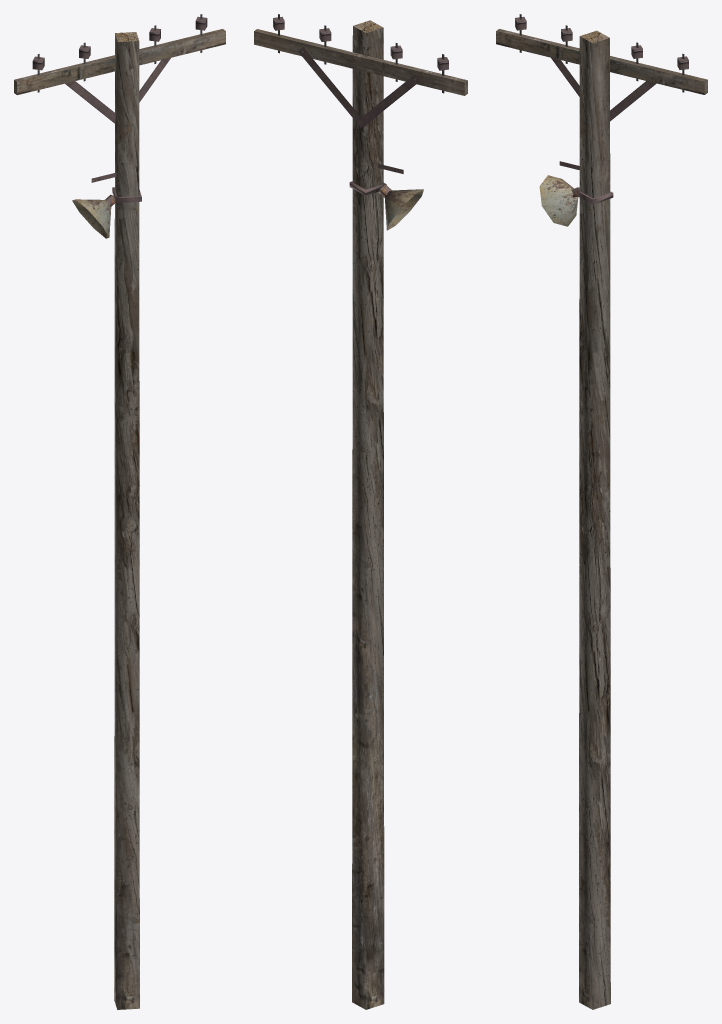
Rendered from Powerpole_light_LOD1.fbx.
The picture shows the model from 3 angles, left to right: view 1: azimuth 30°, elevation 25°; view 2: azimuth 150°, elevation 25°; view 3: azimuth 330°, elevation 25°; orthographic projection.
Parts seen in each view (by area): view 1: polySurface451; view 2: polySurface451; view 3: polySurface451.
Boxes of the visible parts, <box> form: polySurface451: <box>14,14,225,1009</box>; polySurface451: <box>254,14,467,1009</box>; polySurface451: <box>496,14,707,1009</box>.
Bounding box in the file's own units: 2.26 × 10 × 0.5104.
